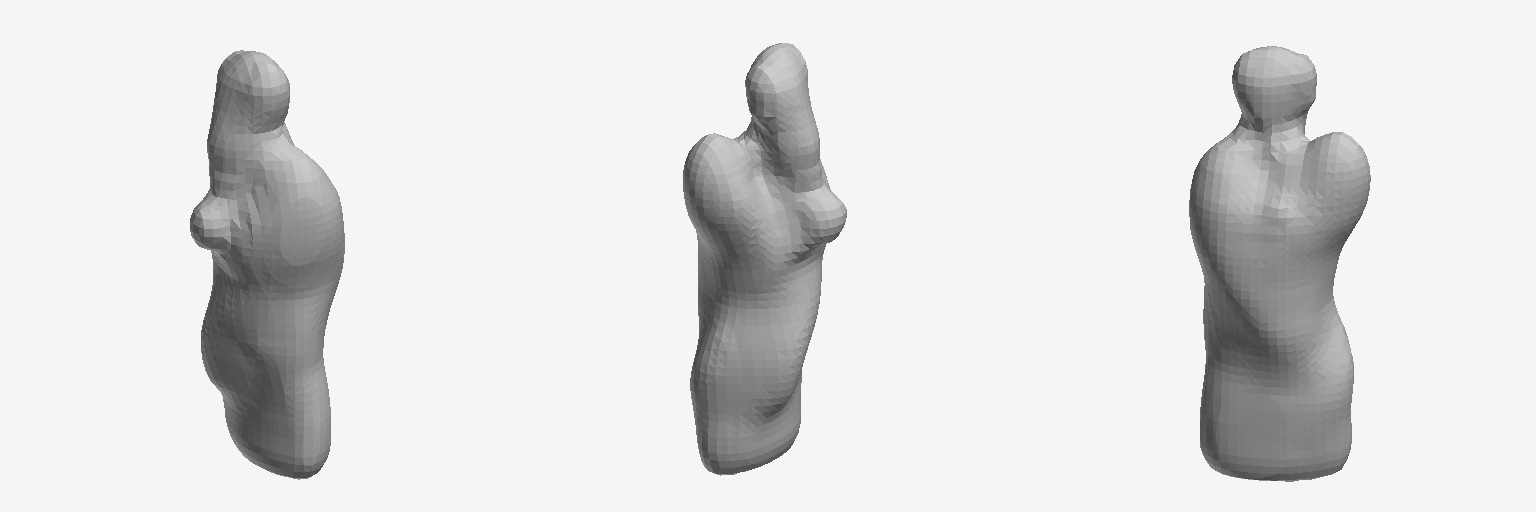
3 views of the same model, side by side, from view 1: azimuth 30°, elevation 25°; view 2: azimuth 150°, elevation 25°; view 3: azimuth 270°, elevation 25° (orthographic).
Parts seen in each view (by area): view 1: Liquid_Domain; view 2: Liquid_Domain; view 3: Liquid_Domain.
Part boxes in pixels (left/top/right/bottom): Liquid_Domain: left=190, top=50, right=344, bottom=479; Liquid_Domain: left=683, top=43, right=846, bottom=475; Liquid_Domain: left=1189, top=46, right=1370, bottom=481.
Size of the model in its own units: 2.54 by 7.23 by 2.88.